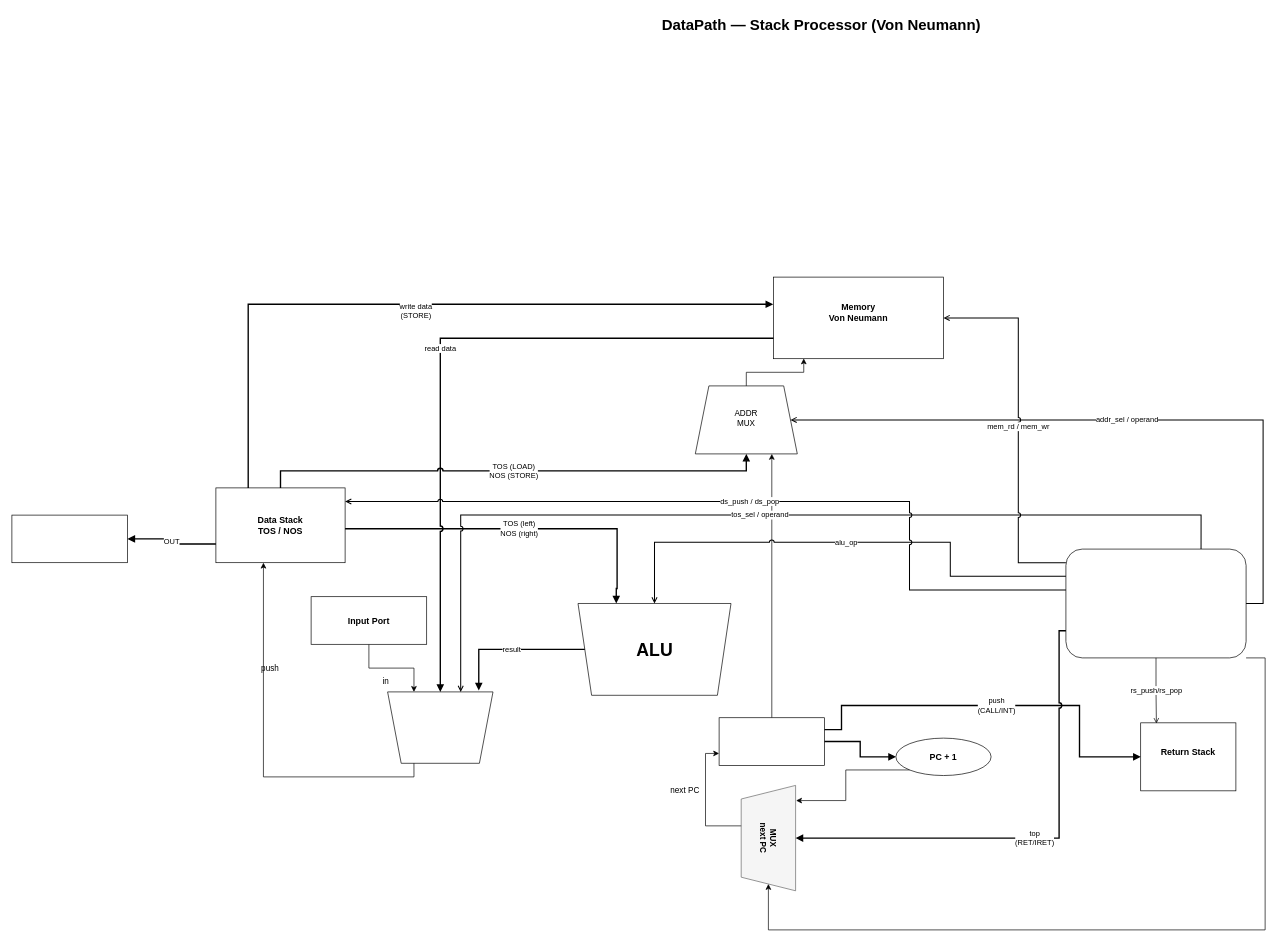
Some shapes in this 1282 by 947 pixel diagram are drawn without their labels. The centre of each missing label's shape, as x and y in pixels:
"Control Unit" belongs at pixel 1155 603.
"MUX Data Stack" belongs at pixel 440 727.
"Output Port" belongs at pixel 69 538.
"PC" belongs at pixel 771 741.
